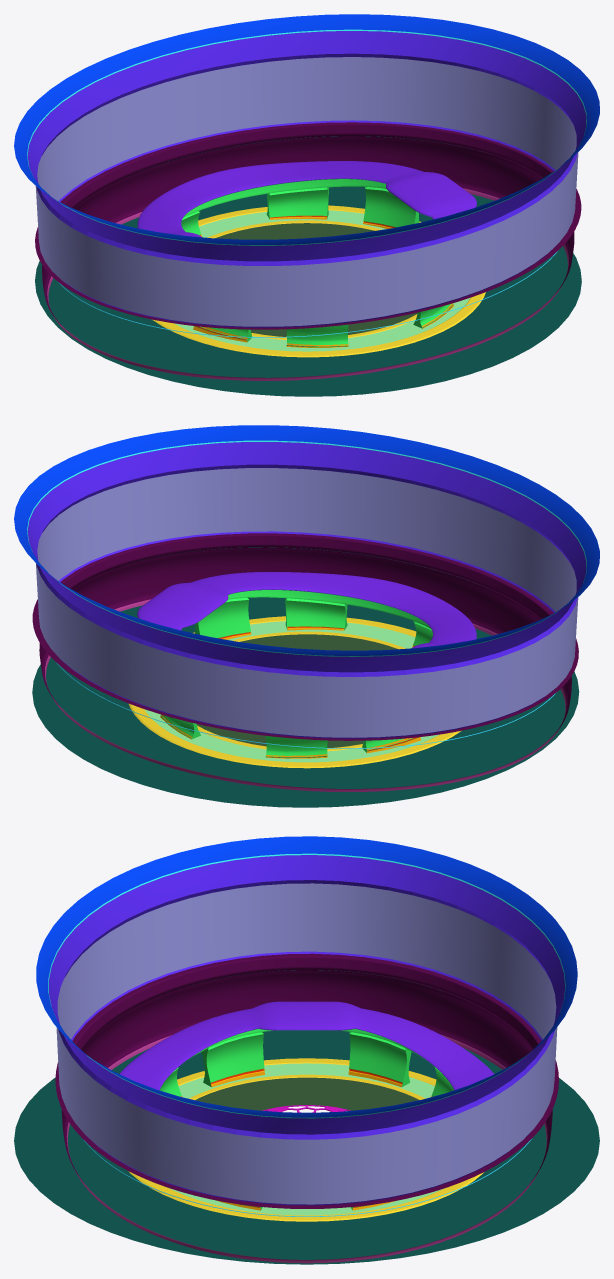
The model's file is All Arena LL NEW.FBX.
The picture shows the model from 3 angles, top to bottom: view 1: azimuth 30°, elevation 25°; view 2: azimuth 150°, elevation 25°; view 3: azimuth 270°, elevation 25°; orthographic projection. The views are drawn at different scales.
Parts seen in each view (by area): view 1: Arena002, Circle006, Loft001, Loft002, Lower Level Inner Walls V, Circle005, Donut002, Circle004, Donut001; view 2: Arena002, Circle006, Loft001, Loft002, Lower Level Inner Walls V, Circle005, Donut002, Circle004, Donut001; view 3: Arena002, Circle006, Loft001, Loft002, Lower Level Inner Walls V, Circle004, Donut002, Circle005, Donut001.
Part boxes in pixels (x1,y1,x2,y2): Arena002: [14, 14, 599, 327]; Circle006: [35, 186, 581, 396]; Loft001: [35, 122, 581, 380]; Loft002: [137, 161, 476, 237]; Lower Level Inner Walls V: [181, 179, 453, 347]; Circle005: [174, 210, 470, 351]; Donut002: [152, 205, 485, 357]; Circle004: [215, 223, 417, 336]; Donut001: [207, 220, 417, 339]; Arena002: [14, 425, 599, 738]; Circle006: [32, 597, 579, 807]; Loft001: [32, 533, 578, 791]; Loft002: [137, 572, 476, 648]; Lower Level Inner Walls V: [160, 590, 432, 758]; Circle005: [144, 621, 439, 762]; Donut002: [129, 616, 461, 768]; Circle004: [197, 634, 397, 747]; Donut001: [197, 631, 405, 751]; Arena002: [36, 836, 577, 1205]; Circle006: [14, 1030, 599, 1264]; Loft001: [55, 953, 558, 1263]; Loft002: [119, 1001, 494, 1090]; Lower Level Inner Walls V: [159, 1029, 453, 1210]; Circle004: [195, 1077, 419, 1110]; Donut002: [128, 1058, 483, 1221]; Circle005: [169, 1063, 443, 1215]; Donut001: [189, 1074, 425, 1100].
Bounding box in the file's own units: 104 × 29.4 × 93.03.
